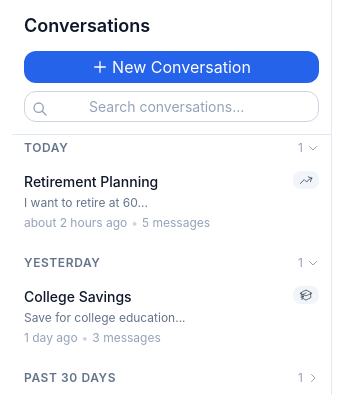
ThreadSidebar › toggles category expansion
Expected: the heading "Retirement Planning" is shown, [24,173,158,190]
Step 1. Click the button "Today 1" → {"x": 46, "y": 148}, box [12,135,331,161]
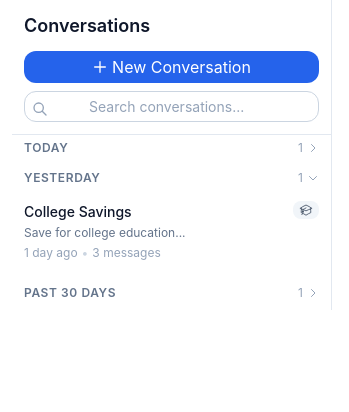
Expected: the button "Retirement Planning" is gone
Step 2. Click the button "Today 1" → {"x": 46, "y": 148}, box [12,135,331,161]
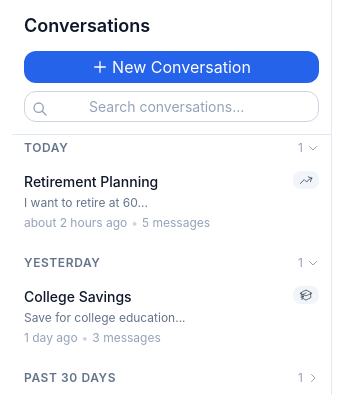
Expected: the heading "Retirement Planning" is shown, [24,173,158,190]
